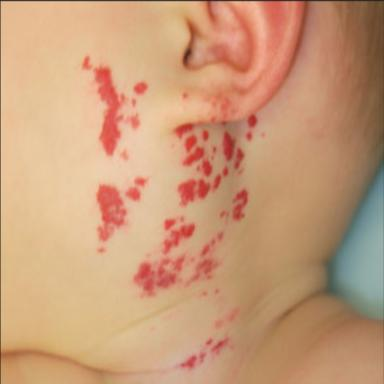Hemangiome: (95, 66, 120, 155), (134, 257, 184, 295), (97, 185, 127, 241), (163, 223, 195, 254), (178, 180, 197, 205), (233, 190, 248, 220), (183, 147, 204, 166), (223, 132, 235, 161), (211, 337, 229, 352), (175, 124, 193, 138), (234, 148, 245, 169), (185, 135, 197, 153), (198, 180, 210, 198), (181, 355, 197, 368), (126, 187, 140, 200), (133, 82, 148, 94), (130, 113, 140, 129), (203, 161, 212, 176), (164, 218, 175, 230), (82, 56, 91, 70), (213, 175, 221, 190), (247, 115, 257, 127), (134, 178, 147, 187), (201, 244, 210, 256), (203, 130, 209, 141), (246, 132, 253, 141), (205, 338, 213, 345), (217, 232, 223, 241), (223, 167, 228, 177)
